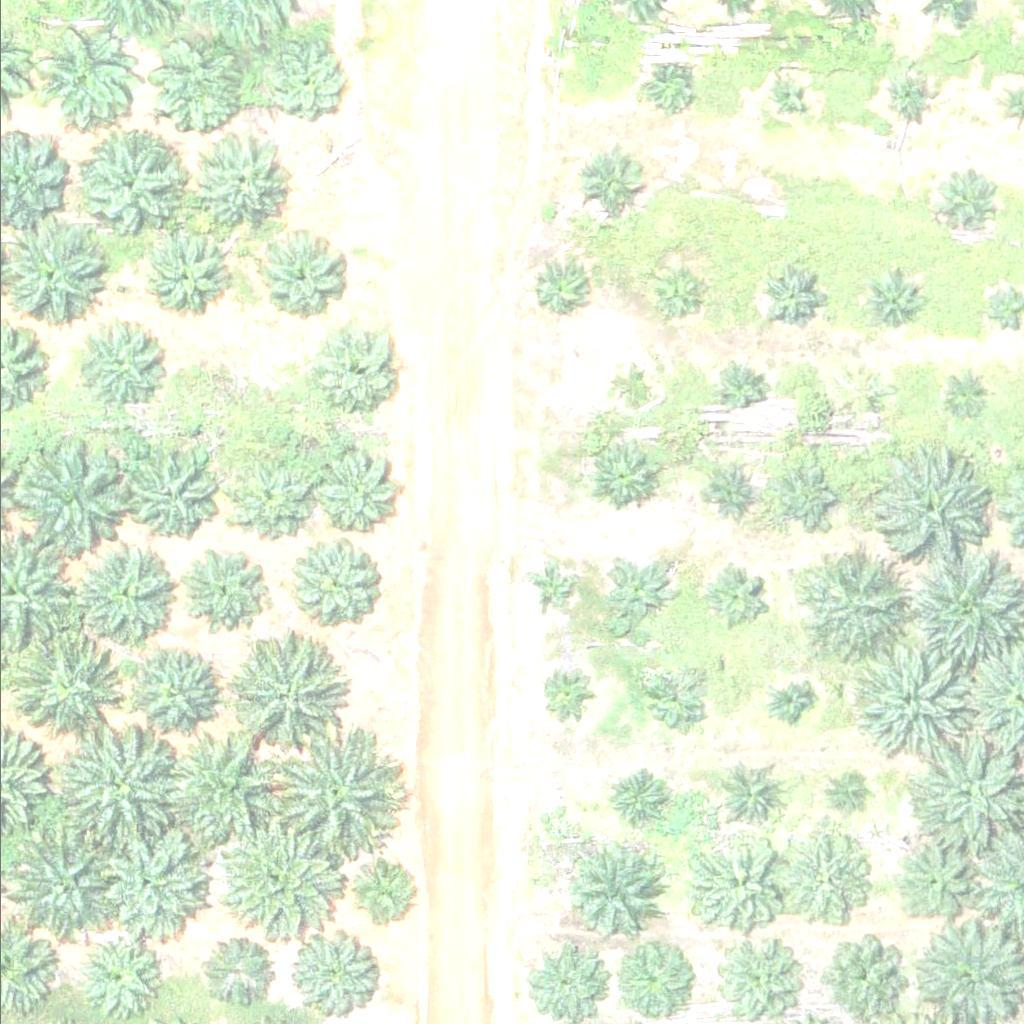Kelapa_Sawit: (264, 731, 390, 856), (866, 445, 992, 570), (221, 831, 335, 944), (8, 627, 122, 740), (159, 734, 272, 847), (58, 725, 171, 838), (856, 640, 969, 753), (799, 544, 912, 657), (11, 438, 125, 550), (7, 831, 120, 943), (94, 826, 207, 938), (68, 130, 181, 242), (128, 649, 229, 749), (284, 533, 385, 633), (64, 309, 165, 409), (188, 132, 289, 232), (34, 34, 135, 134), (561, 838, 662, 938), (231, 644, 331, 744), (75, 546, 175, 646), (122, 442, 222, 542), (157, 38, 257, 138), (284, 928, 373, 1016), (73, 929, 161, 1017), (181, 540, 269, 628), (312, 322, 400, 410), (141, 225, 229, 313), (783, 833, 871, 921), (689, 841, 777, 929), (226, 460, 314, 547), (309, 448, 397, 535), (252, 235, 340, 322), (256, 39, 344, 126), (574, 149, 650, 224), (825, 941, 901, 1016), (192, 930, 268, 1005), (710, 943, 786, 1018), (528, 946, 604, 1021), (892, 839, 968, 914), (585, 438, 660, 513), (603, 554, 678, 629), (936, 179, 999, 242), (864, 266, 927, 329), (759, 266, 822, 329), (618, 943, 681, 1006), (527, 259, 590, 322), (600, 767, 663, 830), (353, 864, 416, 927), (645, 662, 708, 725), (645, 259, 708, 322), (772, 466, 835, 528), (703, 570, 766, 632), (535, 668, 586, 718), (706, 472, 757, 522), (526, 561, 577, 611), (946, 370, 997, 420), (849, 369, 900, 419), (720, 359, 771, 409), (646, 69, 696, 119), (728, 770, 778, 820), (605, 363, 655, 413), (887, 71, 937, 121), (829, 778, 867, 816), (763, 78, 801, 116), (767, 683, 805, 720)
